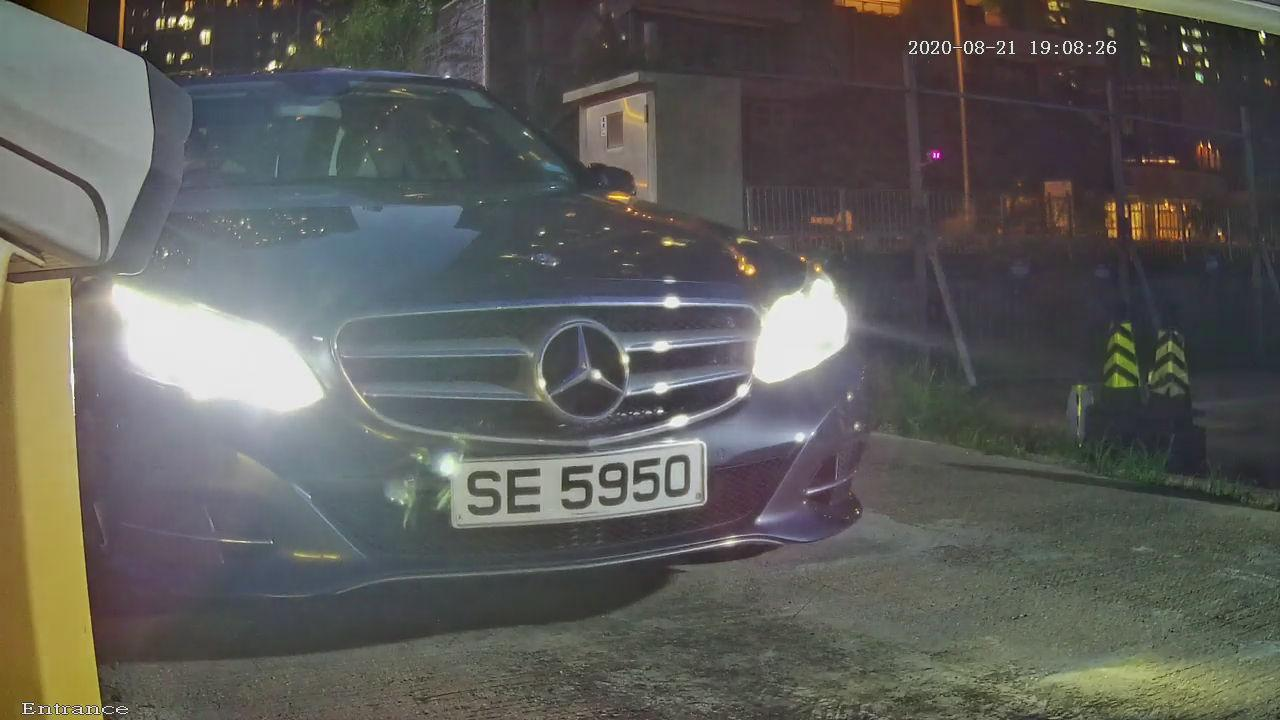License Plate: (421, 428, 725, 549)
